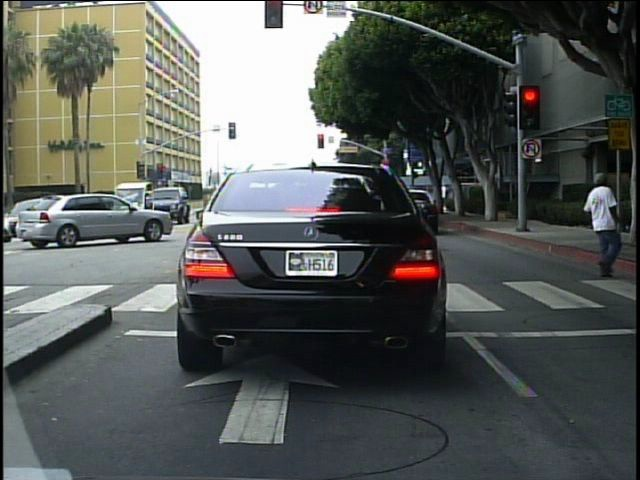person: (582, 167, 622, 279), (629, 166, 639, 294), (438, 180, 452, 212)
